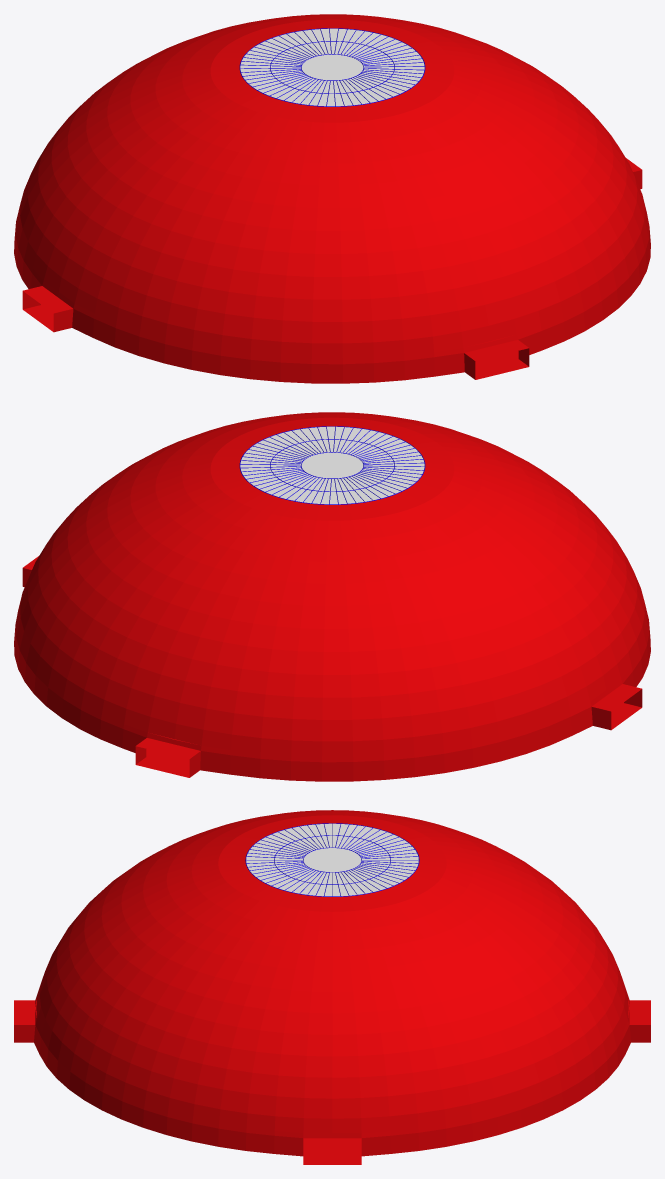
File: TheCentre(Scale).fbx
3 renders of one model, top to bottom at view 1: azimuth 30°, elevation 25°; view 2: azimuth 150°, elevation 25°; view 3: azimuth 270°, elevation 25°, orthographic. The views are drawn at different scales.
Visible parts, largest first — view 1: Dome, Glass, Glass Supports, The Centre; view 2: Dome, Glass, Glass Supports, The Centre; view 3: Dome, Glass, Glass Supports, The Centre.
Part boxes in pixels (x1,y1,x2,y2): Dome: (14, 14, 650, 383); Glass: (240, 28, 424, 106); Glass Supports: (239, 28, 425, 106); The Centre: (22, 158, 642, 379); Dome: (14, 412, 650, 781); Glass: (240, 426, 424, 504); Glass Supports: (239, 426, 425, 504); The Centre: (22, 556, 642, 777); Dome: (34, 810, 630, 1156); Glass: (246, 823, 418, 896); Glass Supports: (245, 823, 419, 896); The Centre: (14, 998, 650, 1164).
Size of the model in its own units: 36000 by 10626 by 36000.
